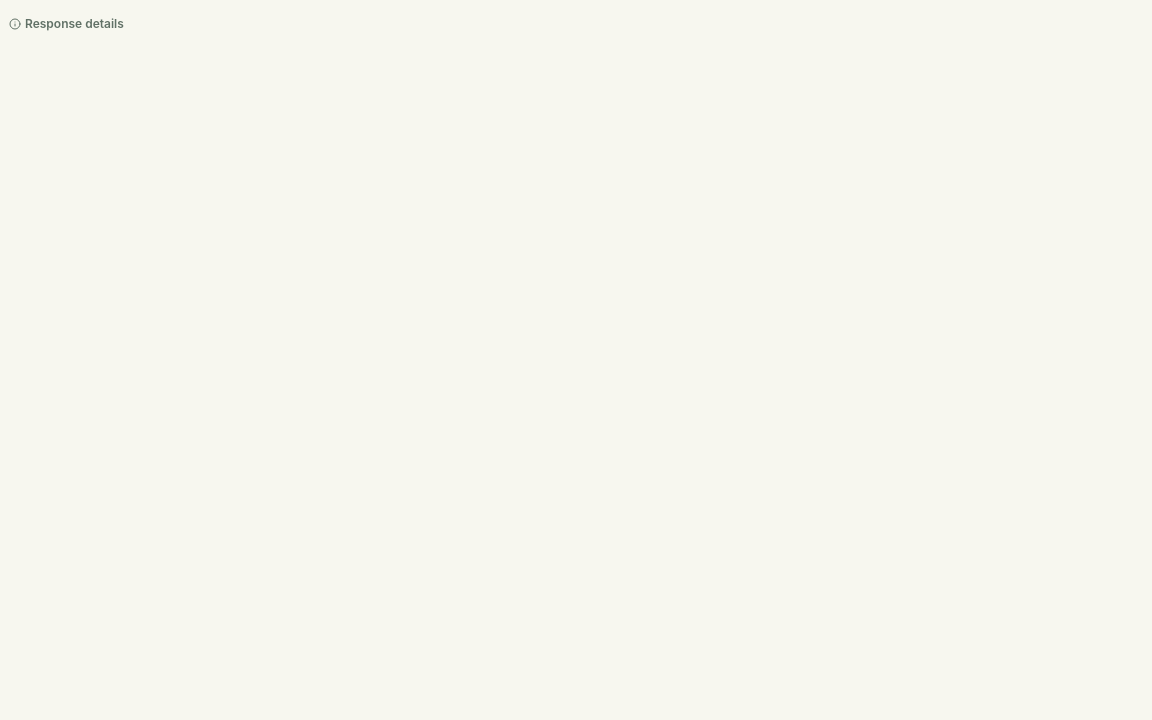
Test: saved private_tee verification details preserve each expected lane outcome
Click the button "Response details": point(66, 24) [0,12,133,36]
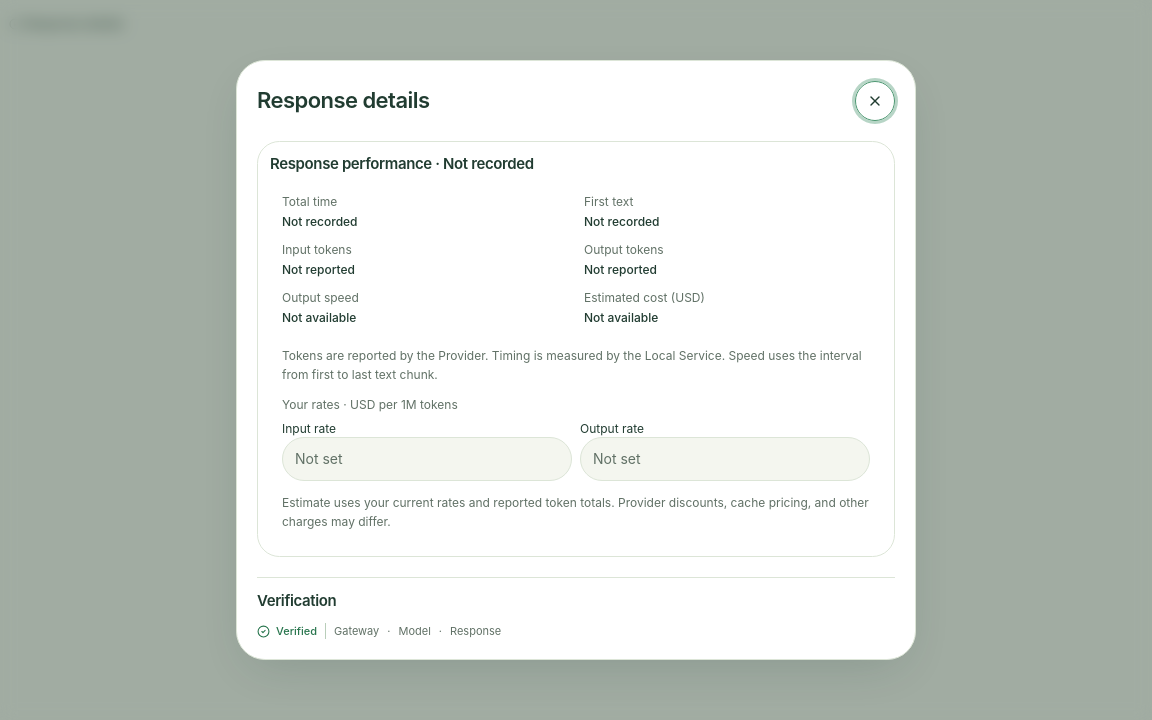
Expected: the list item "Gateway" is shown, [334,623,379,639]
